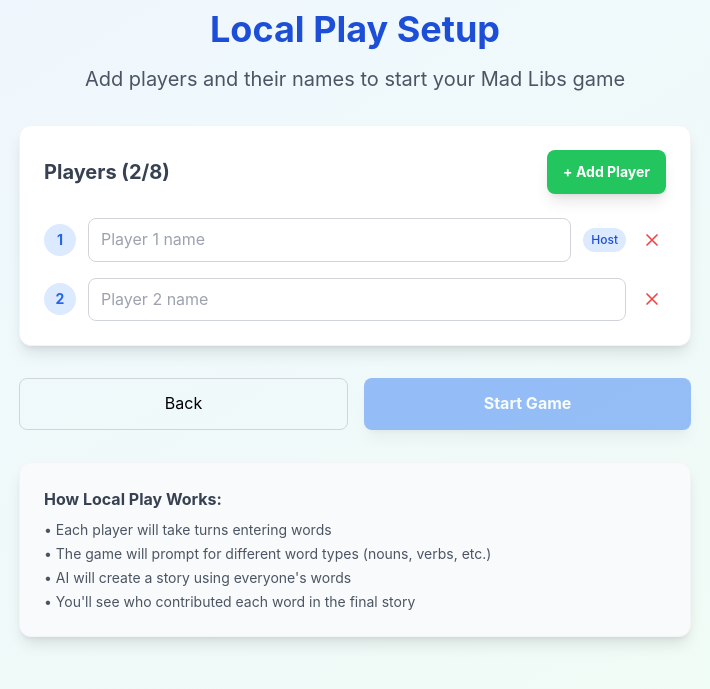
LocalPlaySetup › prevents duplicate player names
The image size is (710, 689).
Note: Add same name to both players
Type "Alice" into the field with placeholder "Player 1 name".
click(330, 240); type("Alice")  # box x1=88 y1=218 x2=571 y2=262
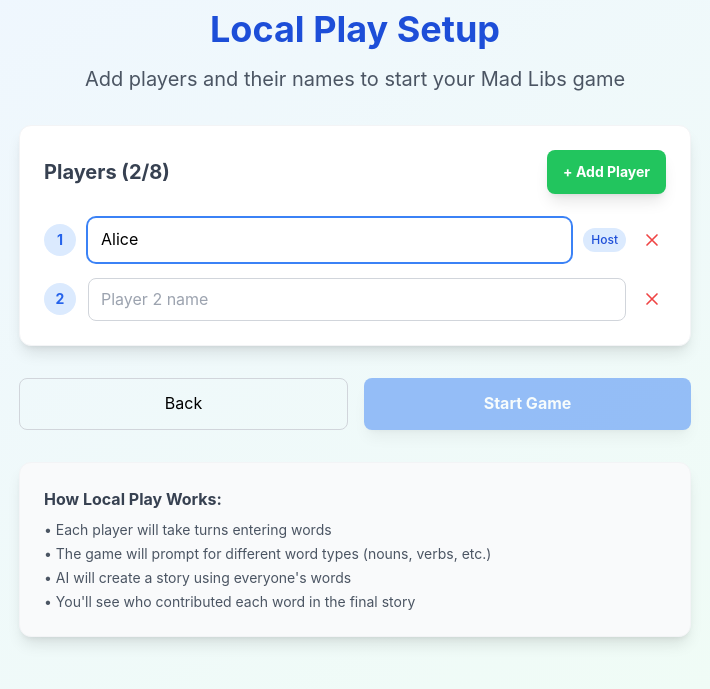
Type "Alice" into the field with placeholder "Player 2 name".
click(357, 299); type("Alice")  # box x1=88 y1=278 x2=626 y2=321
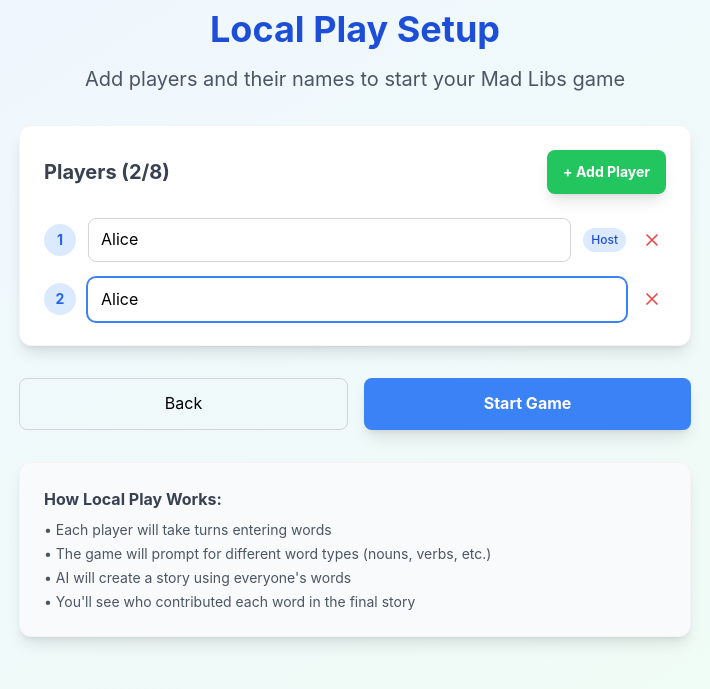
Note: Try to start game
Click the button "Start Game".
click(528, 404)  # box x1=364 y1=378 x2=691 y2=430
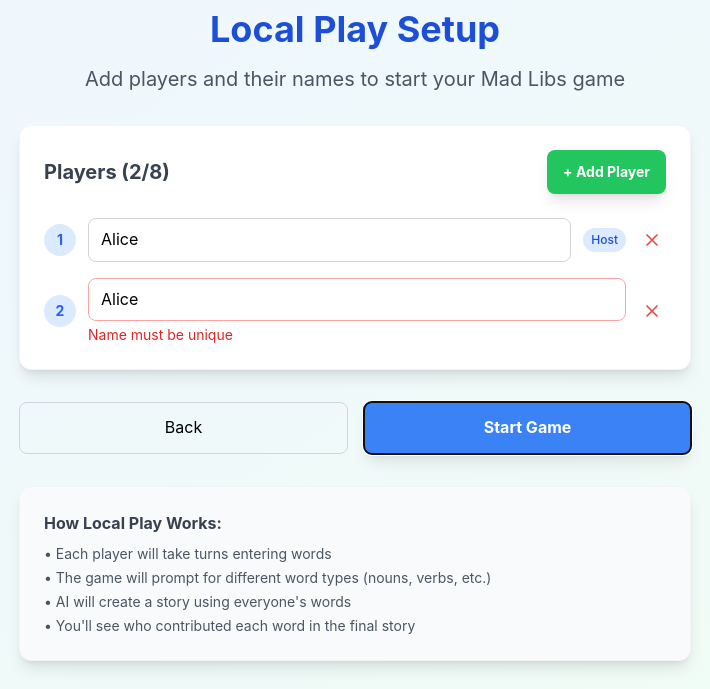
Expected: the text "Name must be unique" is shown, x1=88 y1=326 x2=233 y2=343
